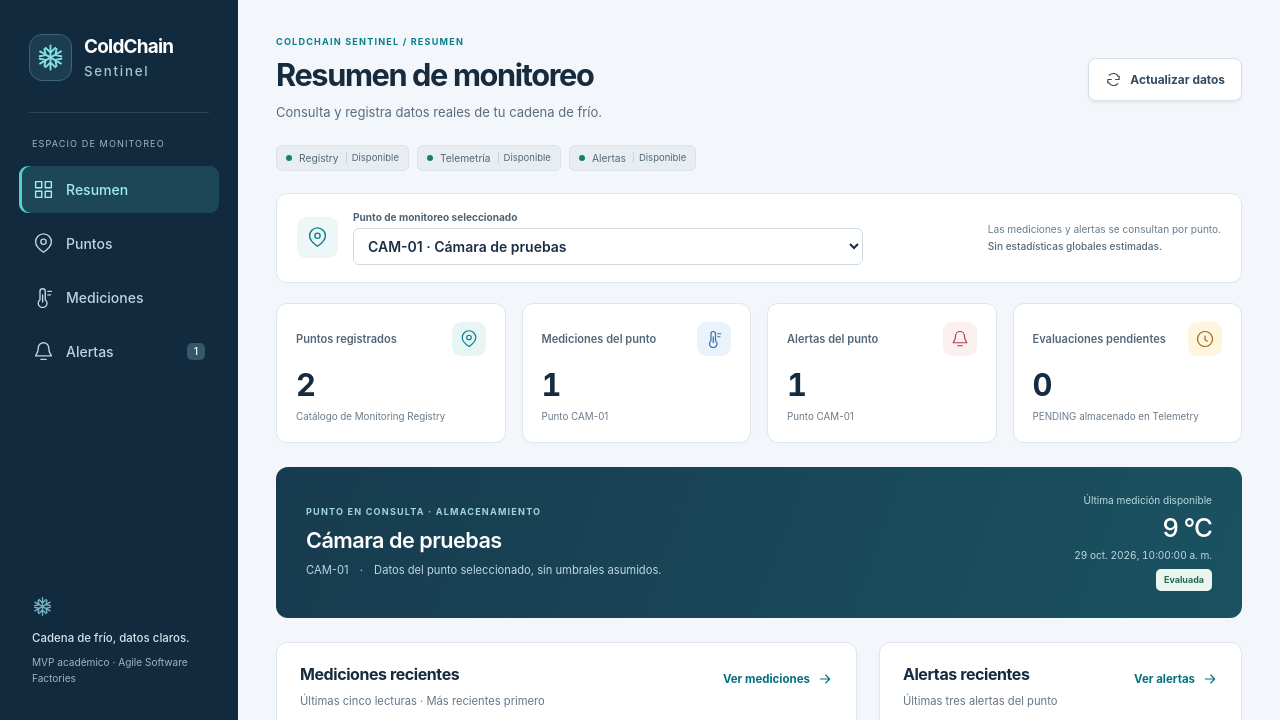
Test: dashboard y navegación › calcula contadores reales y explicita el alcance por punto
This screenshot has width=1280, height=720.
Check: the text "2" is shown, box [296,366,314,403]
Check: the text "1" below "Mediciones del punto" is shown, box [542,366,560,403]
Click the button "Mediciones".
click(119, 297)  # box [19,274,219,320]
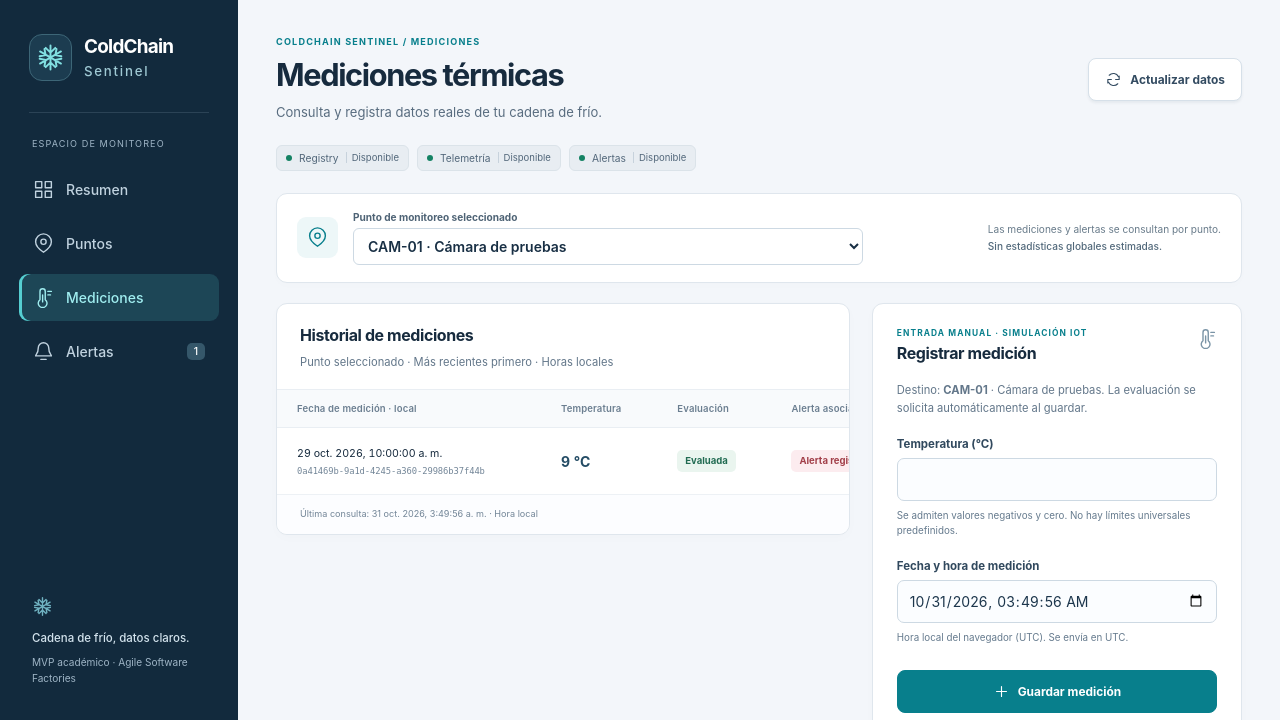
Check: the heading "Mediciones térmicas" is shown, box [276,57,602,94]
Check: the field labelled "Temperatura (°C)" is shown, box [897,458,1217,501]
